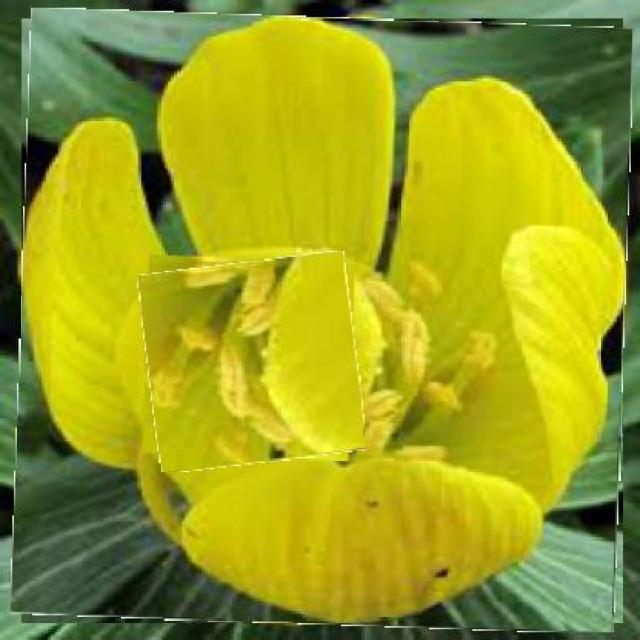Flower: (16, 14, 630, 629), (142, 257, 361, 468)
